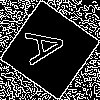A: (25, 25, 75, 66)
